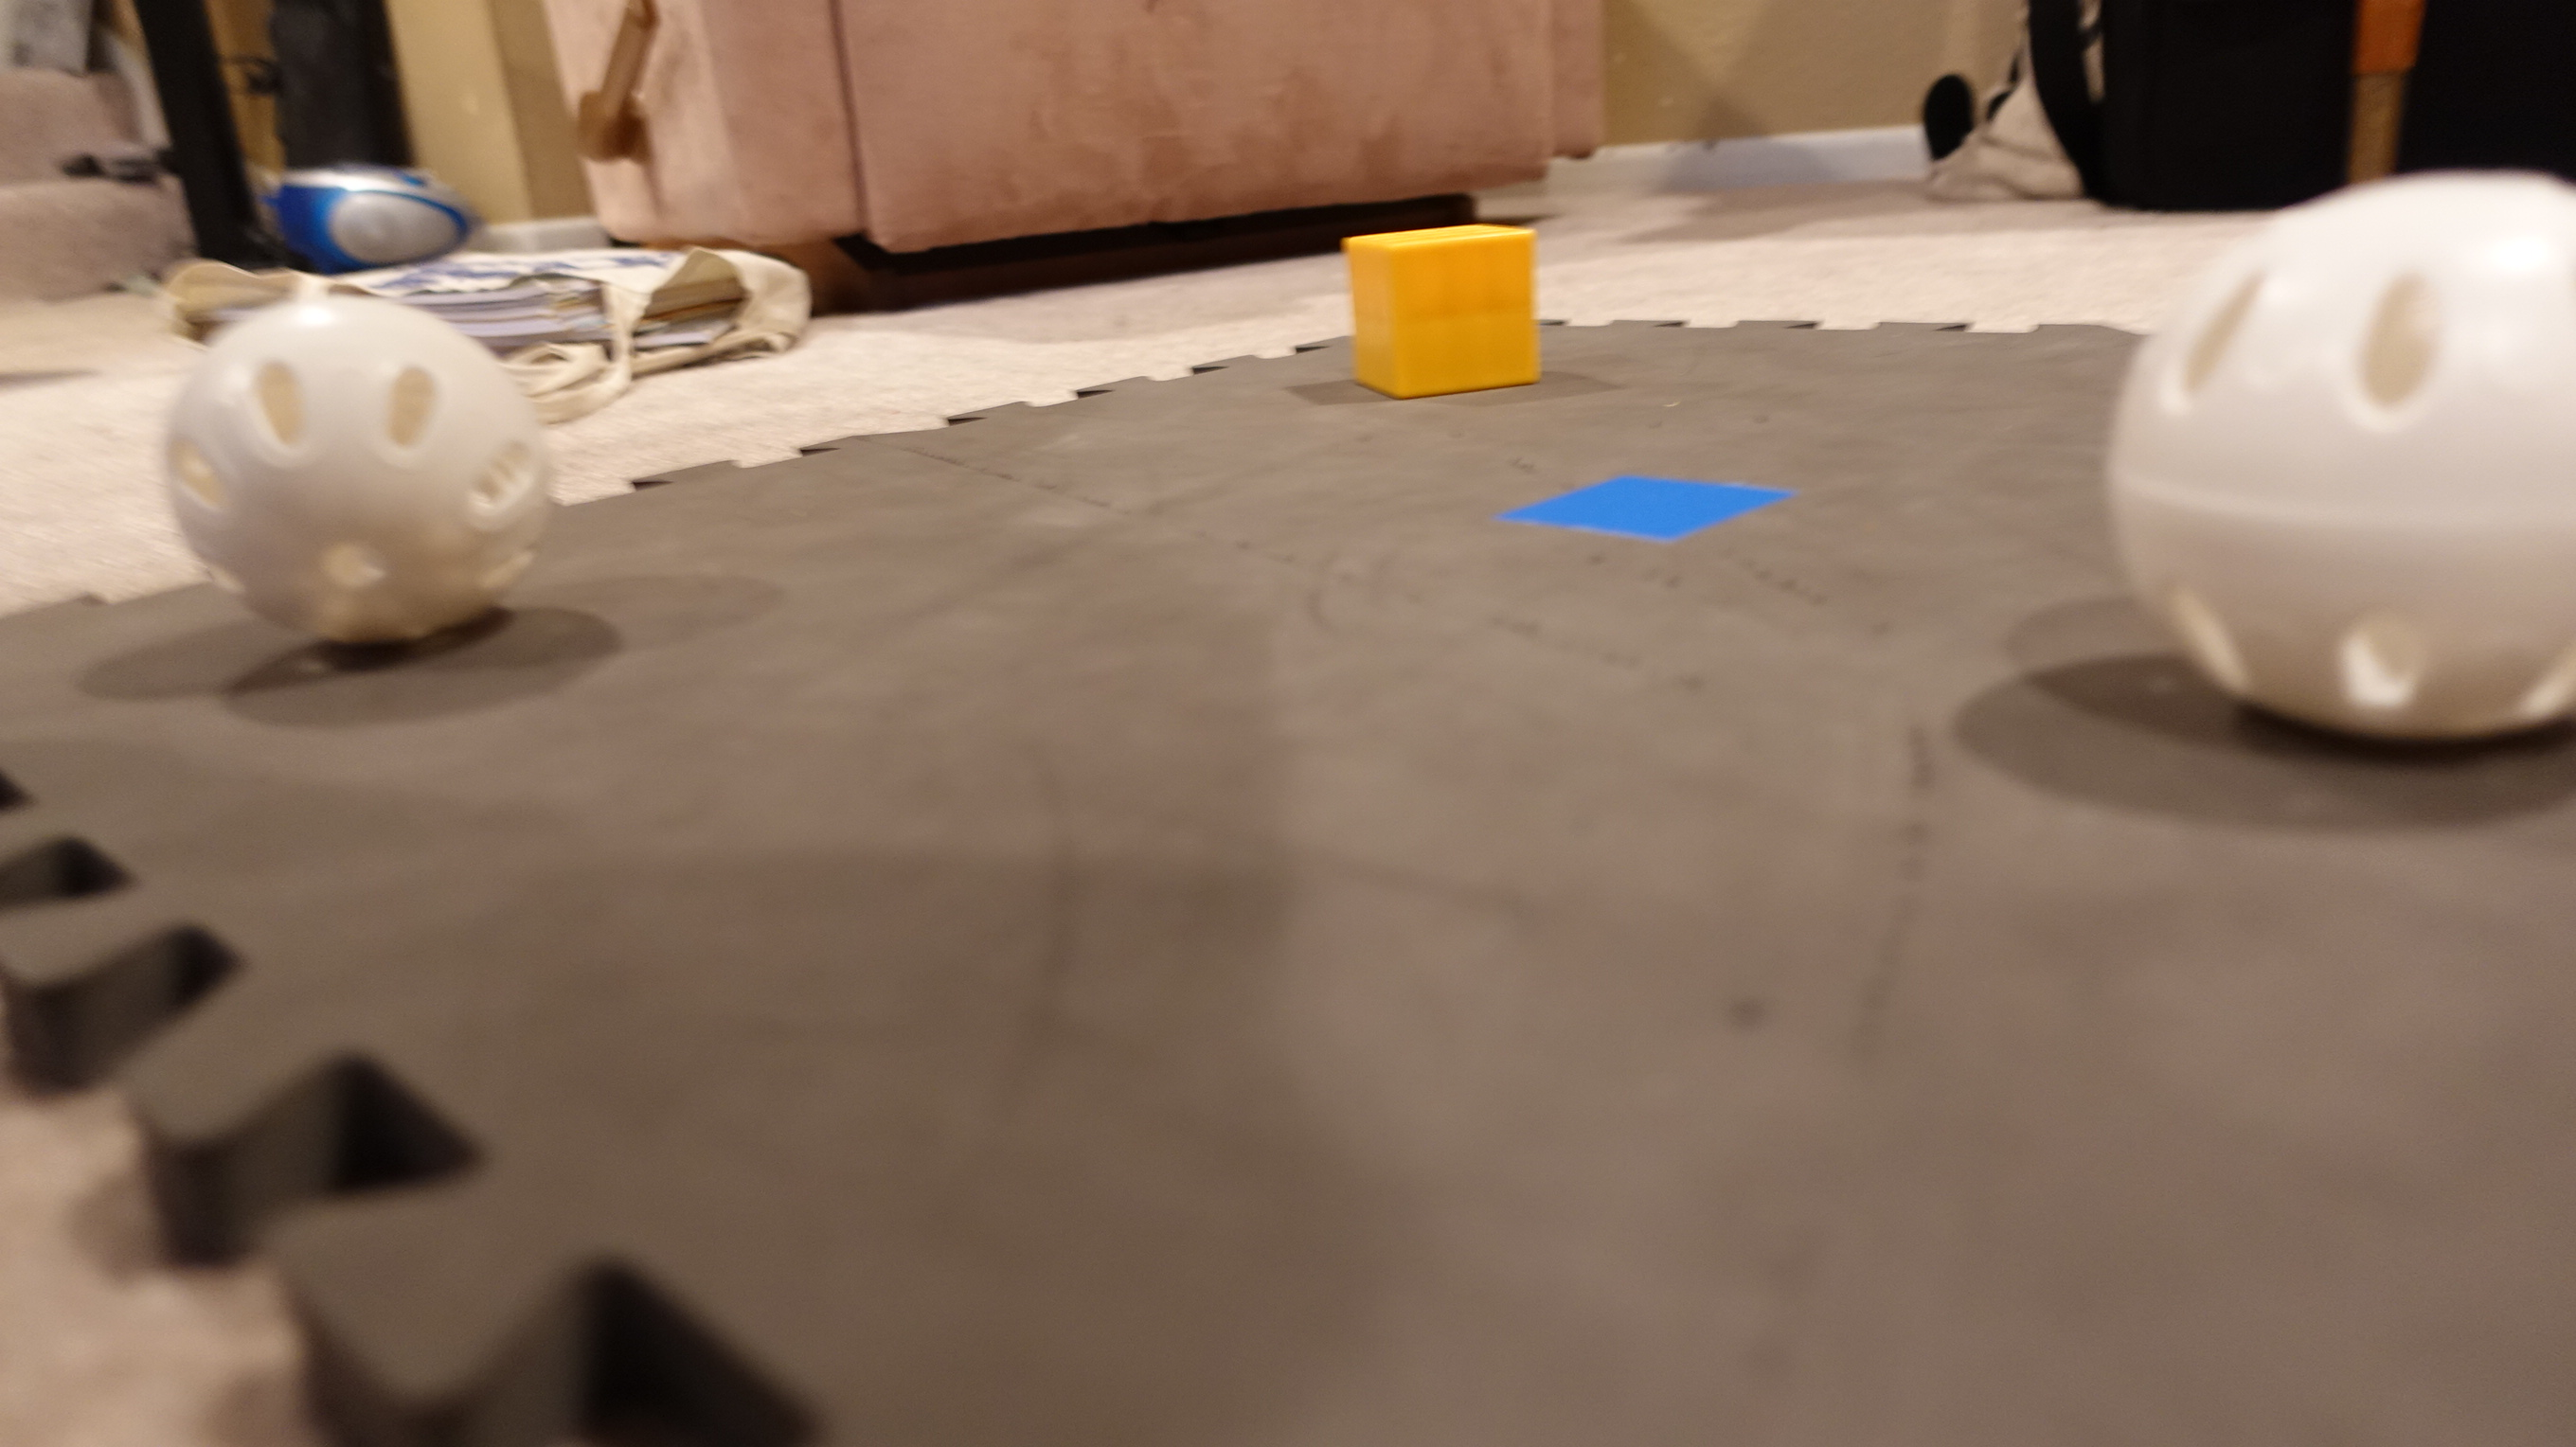gold: (1320, 216, 1571, 407)
silver: (2105, 172, 2576, 745), (163, 288, 554, 647)
